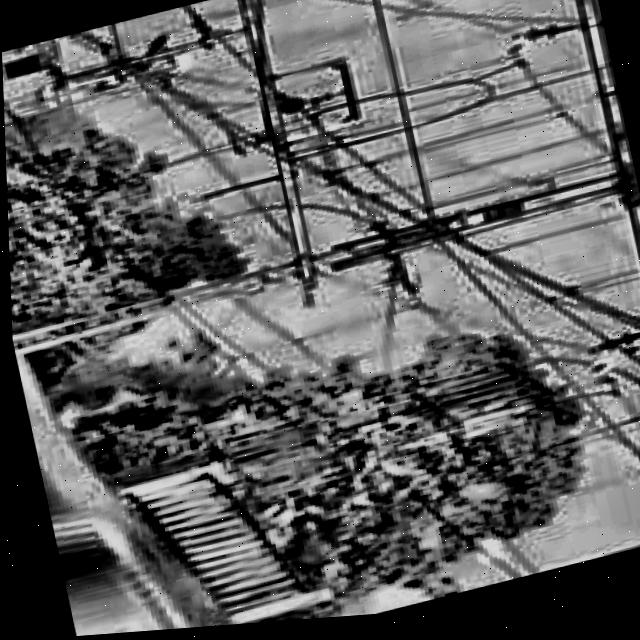Kereta: (9, 294, 146, 544), (6, 190, 25, 344)
Lokomotif: (45, 465, 308, 638)
